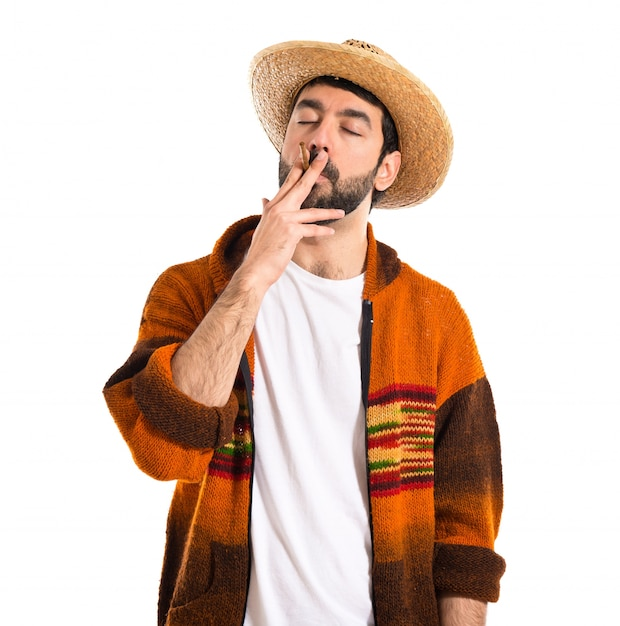cigarette: (296, 140, 311, 173)
